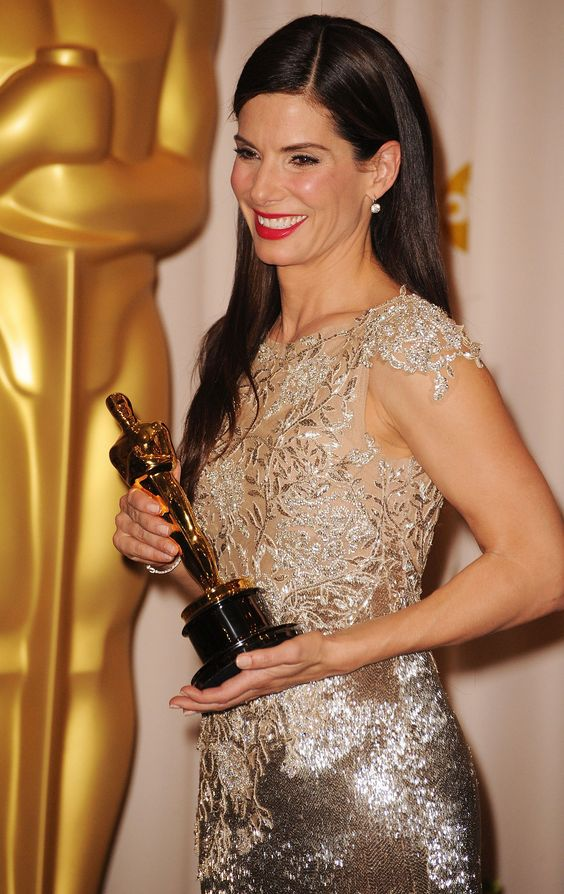hand: (182, 652, 336, 710)
